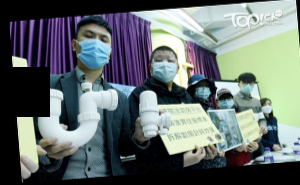with_mask: (77, 26, 112, 68), (151, 52, 179, 82), (195, 82, 212, 101), (240, 79, 255, 95), (218, 95, 234, 109), (261, 100, 272, 115)
